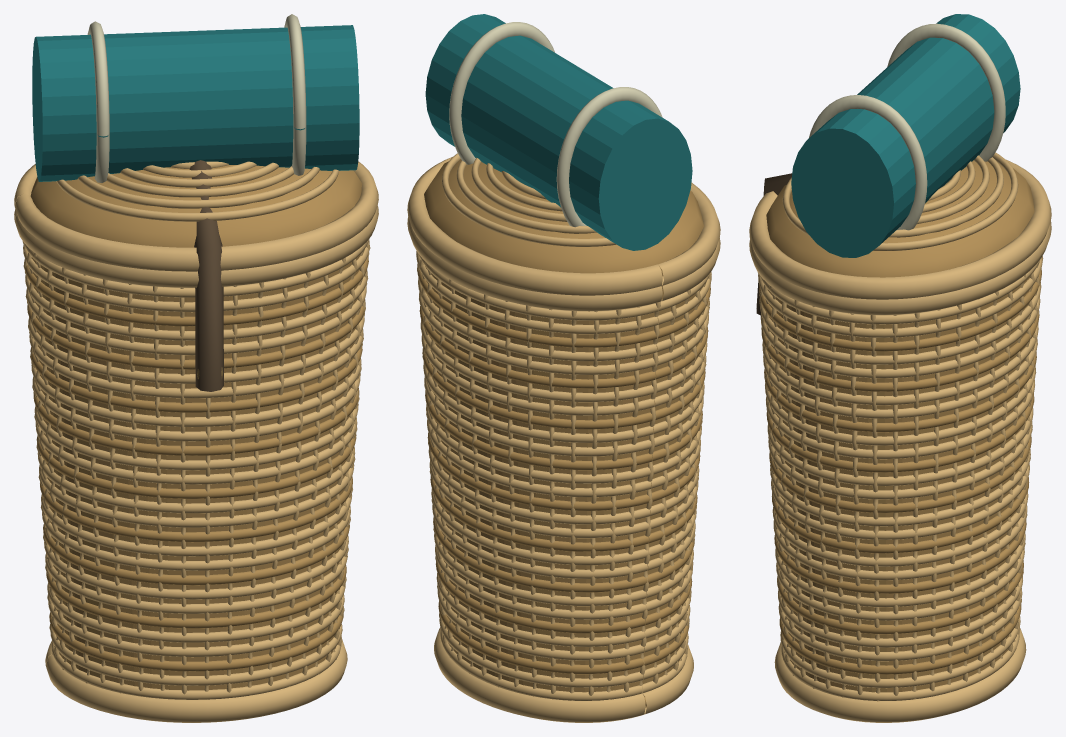
The model's file is StrawBagFit.fbx.
The picture shows the model from 3 angles, left to right: view 1: azimuth 30°, elevation 25°; view 2: azimuth 150°, elevation 25°; view 3: azimuth 270°, elevation 25°; orthographic projection. The views are drawn at different scales.
Parts seen in each view (by area): view 1: SM_StrawBagFit; view 2: SM_StrawBagFit; view 3: SM_StrawBagFit.
Boxes of the visible parts, left/top/right/bottom form: SM_StrawBagFit: left=14, top=14, right=378, bottom=722; SM_StrawBagFit: left=407, top=14, right=720, bottom=722; SM_StrawBagFit: left=749, top=14, right=1051, bottom=722.
Size of the model in its own units: 0.4307 by 0.8638 by 0.3886.
